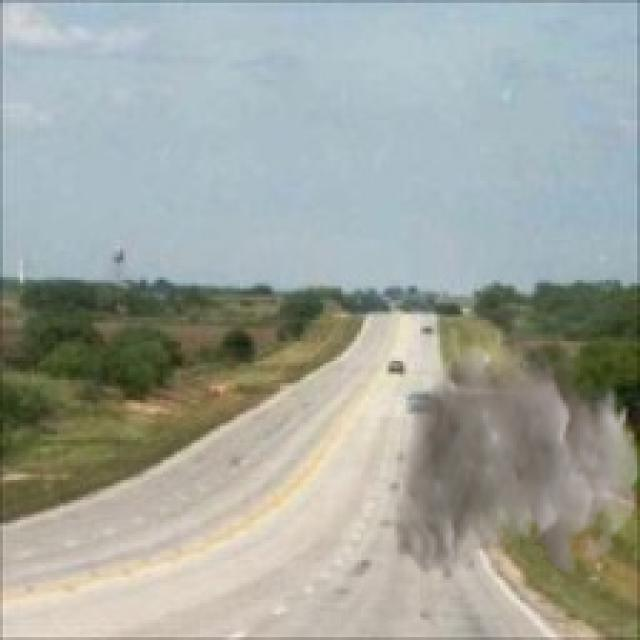Smoke: (392, 314, 637, 586)
